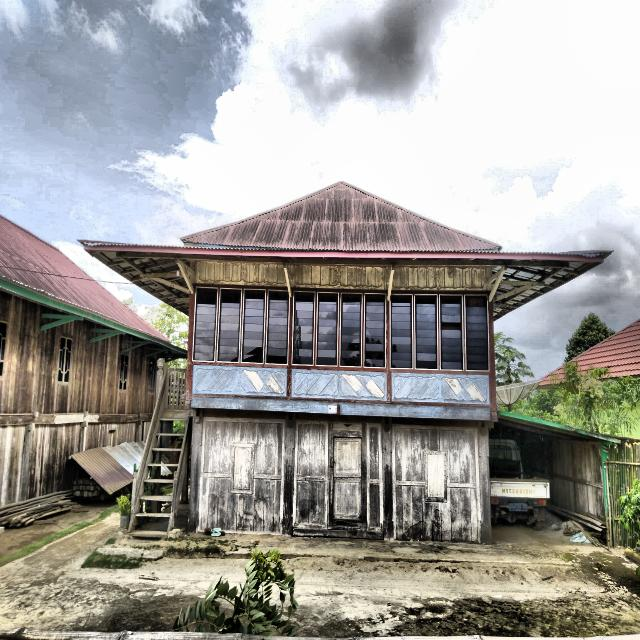roof: (109, 84, 640, 221), (0, 216, 178, 351), (498, 411, 622, 443), (570, 320, 639, 377), (72, 442, 144, 494), (291, 283, 294, 288)
stair: (129, 371, 190, 537), (135, 439, 184, 533), (136, 462, 179, 518), (73, 478, 108, 499), (131, 530, 167, 539), (163, 409, 190, 420), (142, 495, 172, 502), (136, 512, 170, 517), (145, 478, 173, 483), (148, 463, 177, 467), (157, 433, 184, 437), (152, 448, 177, 451)
wall: (190, 412, 491, 543), (0, 292, 157, 504), (0, 292, 154, 414), (0, 422, 148, 504), (491, 417, 605, 522), (393, 425, 488, 541), (197, 260, 392, 293), (550, 438, 605, 522), (604, 441, 639, 548), (390, 265, 491, 295), (288, 264, 391, 290), (386, 302, 392, 353), (361, 314, 364, 320), (463, 347, 466, 353), (462, 323, 465, 326), (290, 291, 291, 294), (363, 362, 363, 364)
window: (193, 288, 217, 360), (218, 290, 241, 362), (466, 296, 488, 370), (316, 293, 338, 366), (416, 296, 437, 369), (441, 296, 462, 369), (391, 296, 412, 368), (243, 290, 264, 362), (293, 293, 314, 364), (267, 292, 288, 363), (341, 294, 361, 366), (365, 295, 385, 367), (58, 338, 72, 382), (147, 358, 157, 393), (0, 323, 6, 376), (119, 355, 128, 390)
